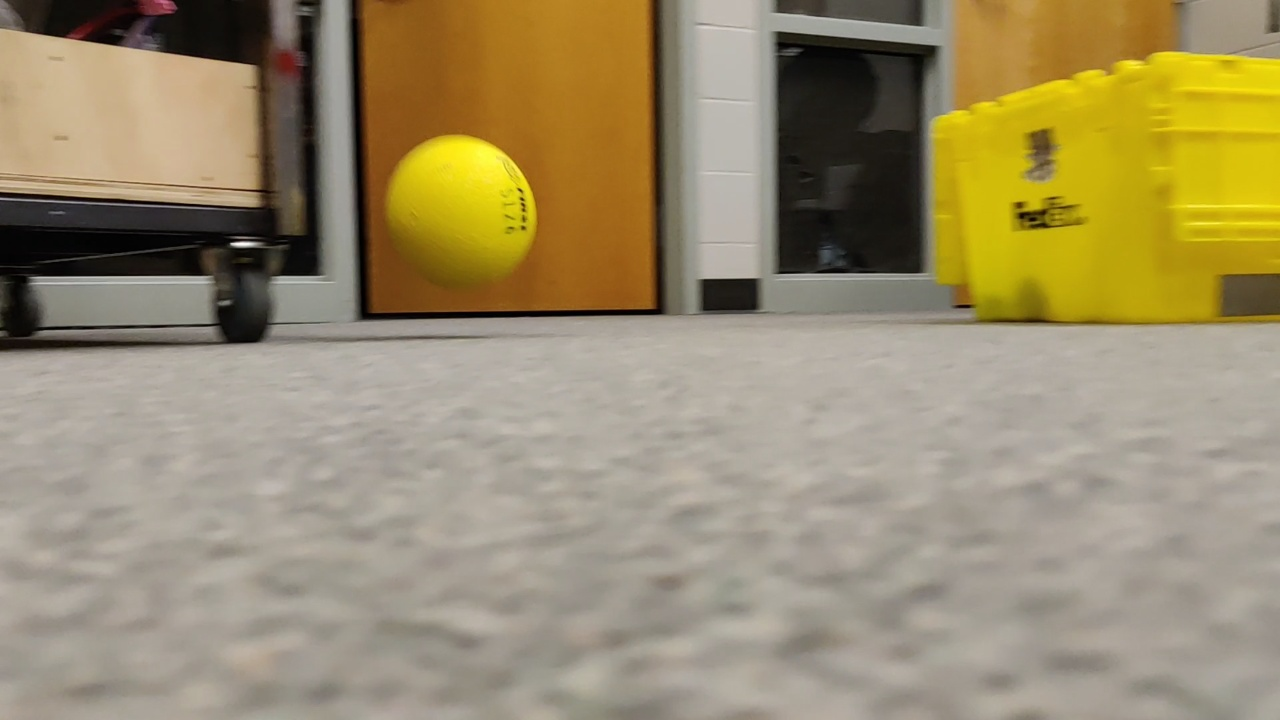Ball: (383, 131, 545, 285)
